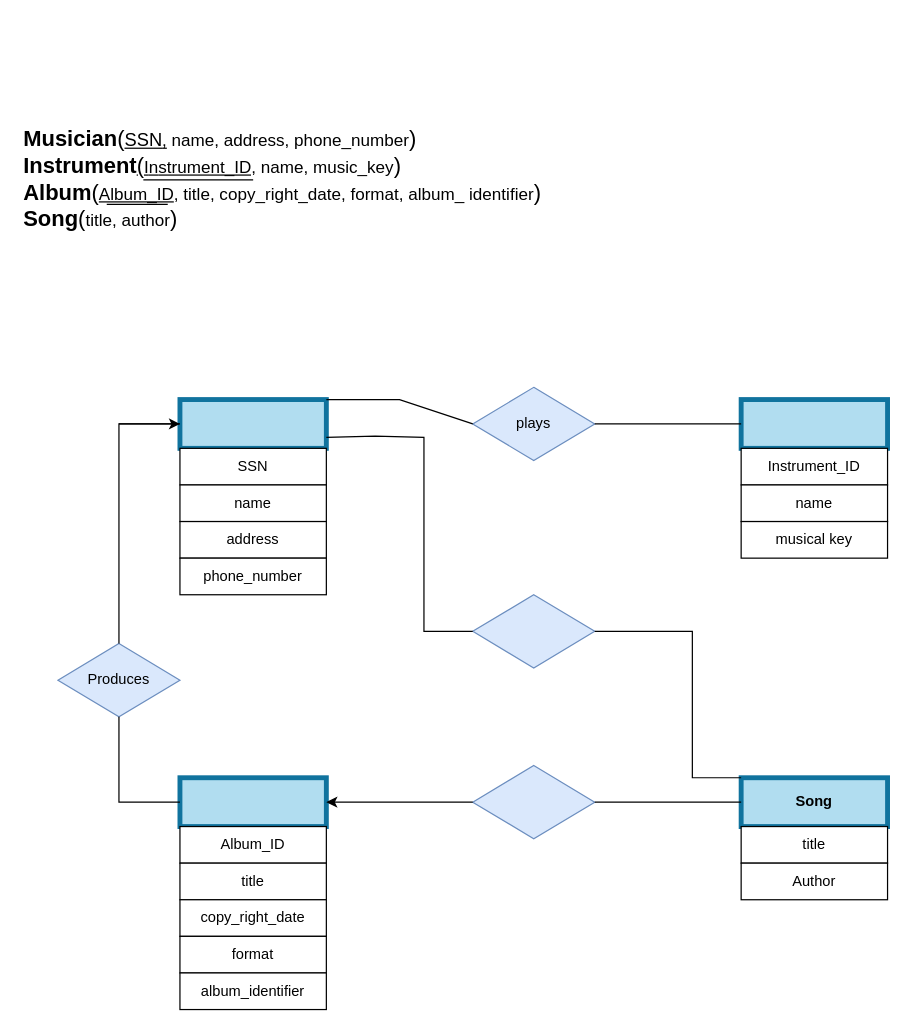
The diagram is 910 pixels wide and 1031 high, and some of its shapes have lost their labels. The box of each missing label's shape, as (x1, y1, x2, y2) in pixels:
Album: (177, 775, 328, 828)
Contains: (472, 764, 595, 839)
Instrument: (738, 396, 889, 450)
Musician: (177, 396, 328, 450)
performs: (472, 594, 595, 668)
